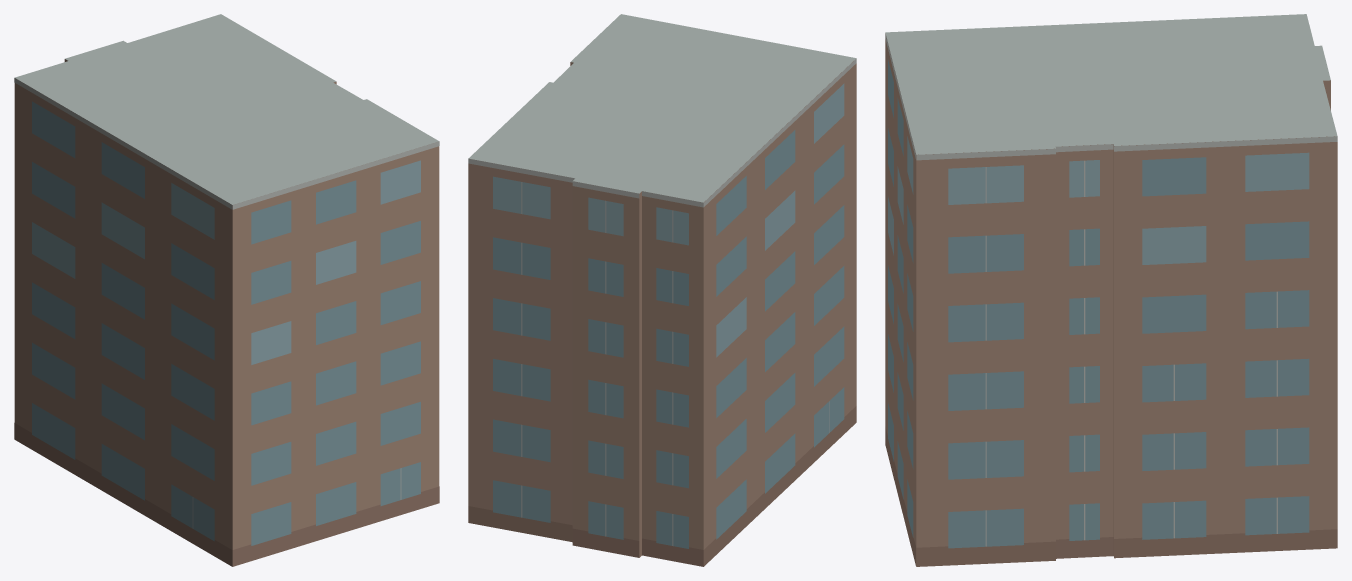
Rendered from survey-upis-32655684.glb.
3 renders of one model, left to right at view 1: azimuth 30°, elevation 25°; view 2: azimuth 150°, elevation 25°; view 3: azimuth 270°, elevation 25°, orthographic. The views are drawn at different scales.
Visible parts, largest first — view 1: survey-upis-32655684.tmp; view 2: survey-upis-32655684.tmp; view 3: survey-upis-32655684.tmp.
Boxes of the visible parts, x1=… form: survey-upis-32655684.tmp: x1=14, y1=14, x2=439, y2=566; survey-upis-32655684.tmp: x1=468, y1=14, x2=856, y2=566; survey-upis-32655684.tmp: x1=885, y1=14, x2=1337, y2=566.
Size of the model in its own units: 13.31 by 18.15 by 18.07.
